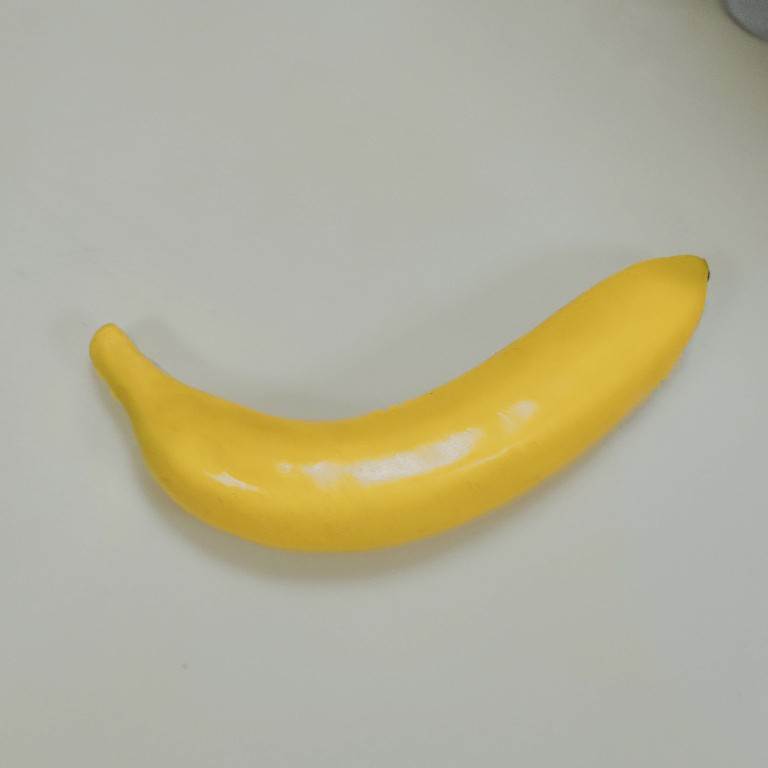fruit_banana: (83, 248, 714, 560)
